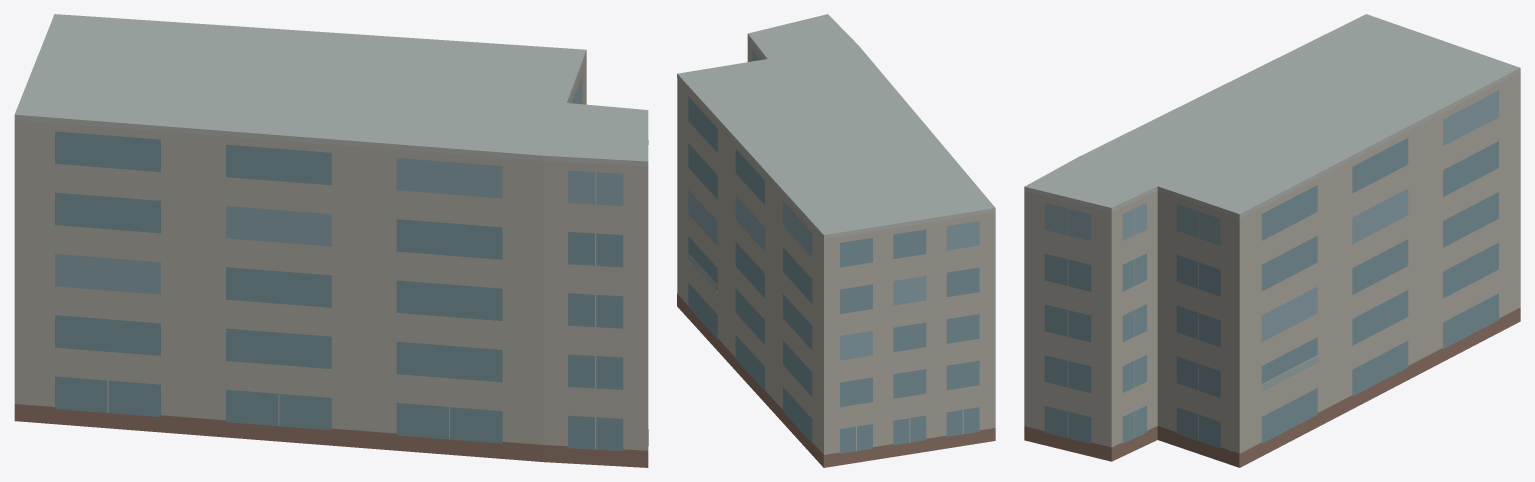
The model's file is survey-upis-32763509.glb.
3 views of the same model, side by side, from view 1: azimuth 30°, elevation 25°; view 2: azimuth 150°, elevation 25°; view 3: azimuth 270°, elevation 25° (orthographic). The views are drawn at different scales.
Parts seen in each view (by area): view 1: survey-upis-32763509.tmp; view 2: survey-upis-32763509.tmp; view 3: survey-upis-32763509.tmp.
Boxes of the visible parts, x1,y1,x2,y2 form: survey-upis-32763509.tmp: [14, 14, 648, 467]; survey-upis-32763509.tmp: [677, 14, 995, 467]; survey-upis-32763509.tmp: [1024, 14, 1520, 467].
Bounding box in the file's own units: 24.05 × 14.2 × 25.18.
